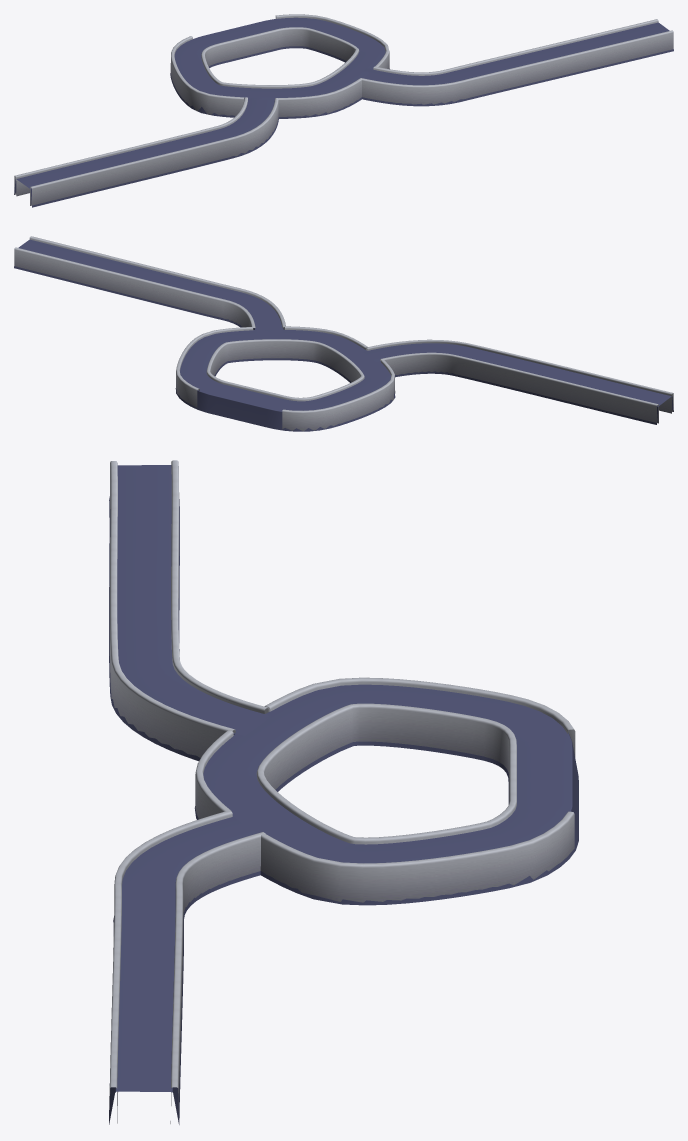
The model's file is MapTron.fbx.
The picture shows the model from 3 angles, top to bottom: view 1: azimuth 30°, elevation 25°; view 2: azimuth 150°, elevation 25°; view 3: azimuth 270°, elevation 25°; orthographic projection. The views are drawn at different scales.
Visible parts, largest first — view 1: Circle__2_, Path, Path__2_; view 2: Circle__2_, Path__2_, Path; view 3: Circle__2_, Path__2_, Path.
Boxes of the visible parts, x1,y1,x2,y2 form: Circle__2_: (170, 14, 389, 118); Path: (354, 19, 673, 106); Path__2_: (14, 97, 278, 207); Circle__2_: (175, 326, 395, 431); Path__2_: (363, 339, 673, 424); Path: (14, 236, 285, 333); Circle__2_: (194, 677, 578, 905); Path__2_: (109, 460, 270, 761); Path: (109, 811, 266, 1124).
Size of the model in its own units: 5816 by 169 by 1843.
